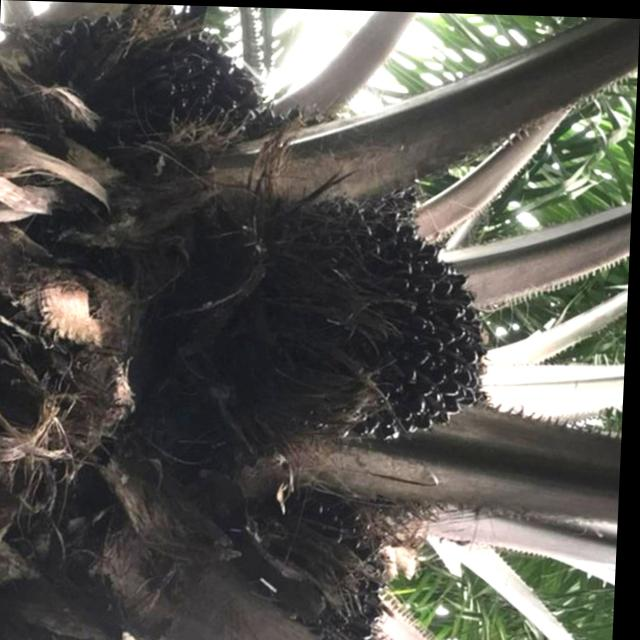ripe: (244, 172, 517, 422)
